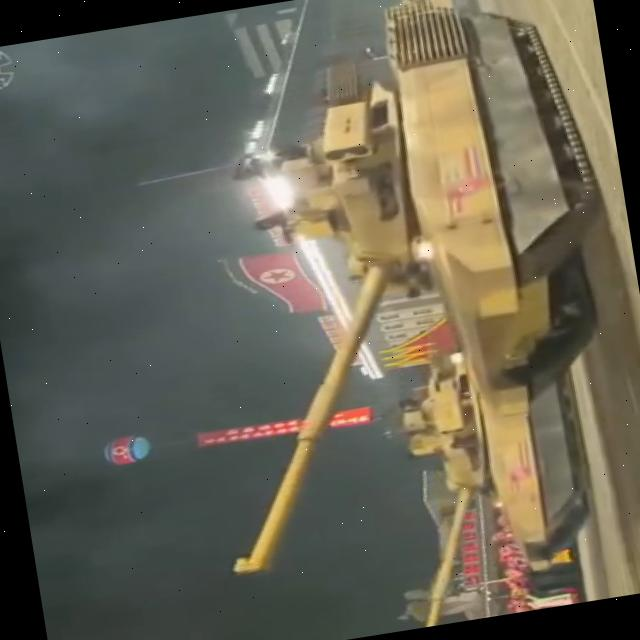north tank: (139, 0, 635, 594), (356, 319, 617, 632)
